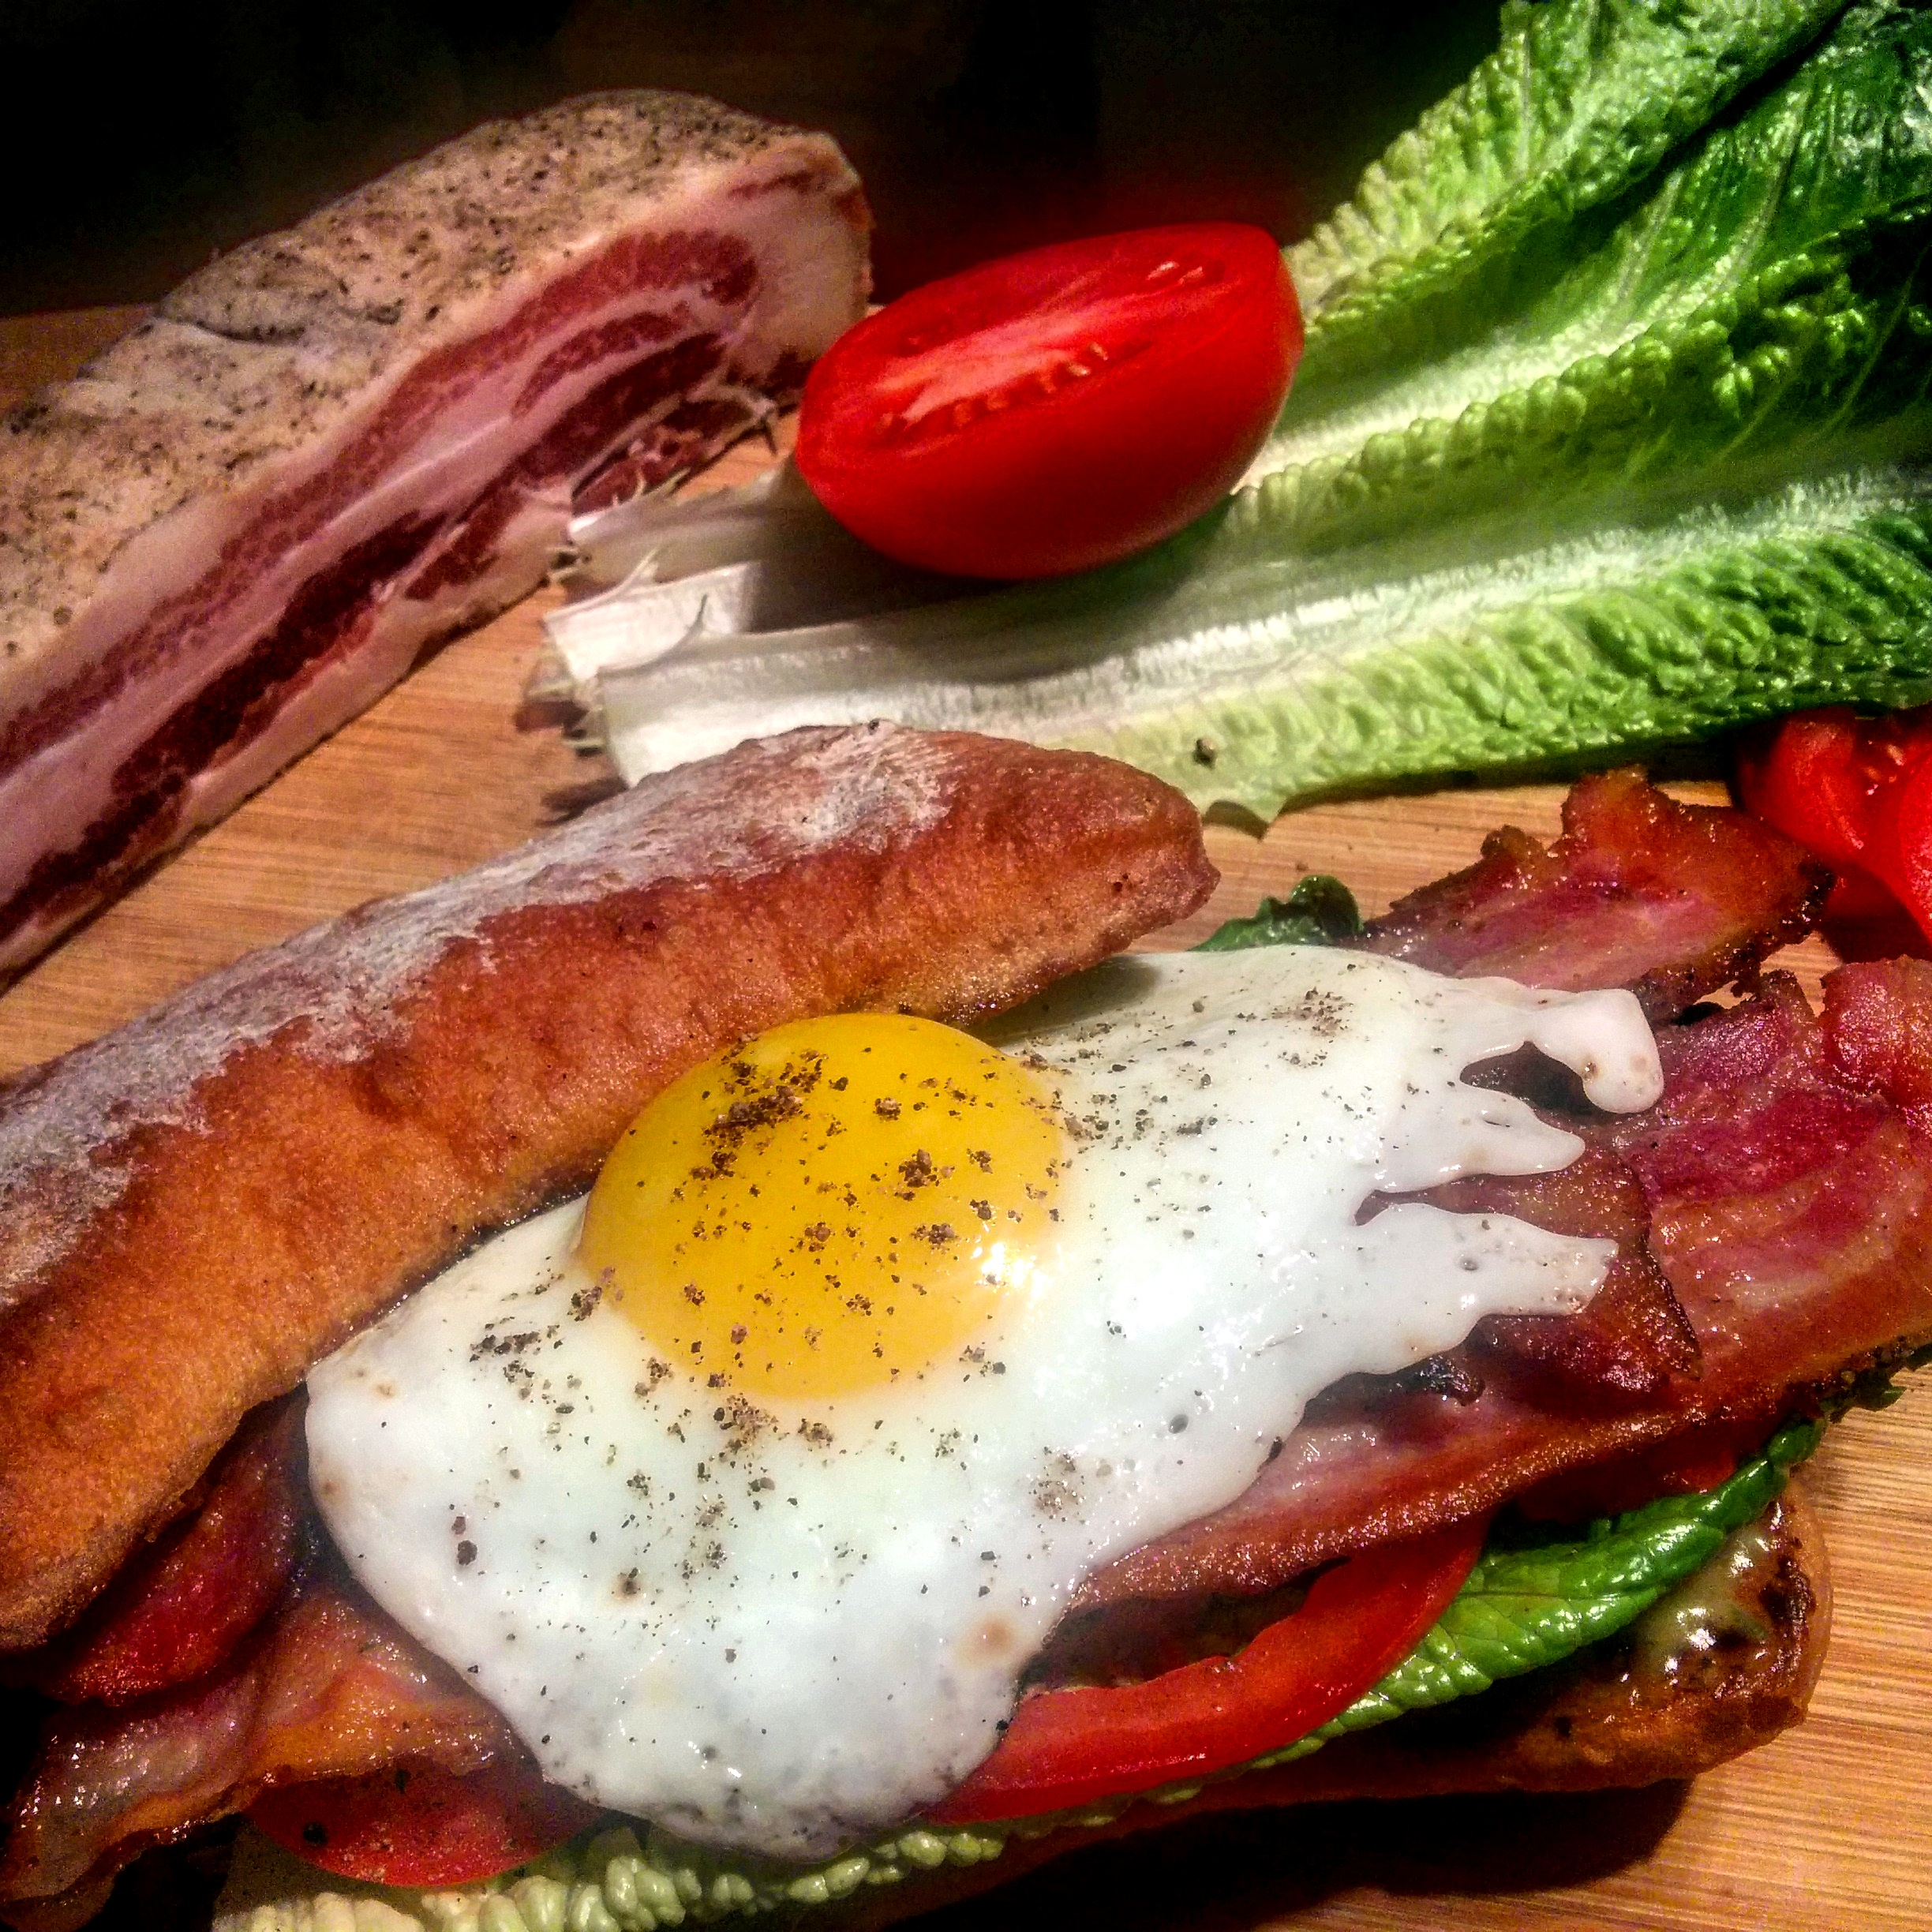chopped lettuce: (1258, 12, 1920, 777)
fried egg: (396, 945, 1407, 1727)
